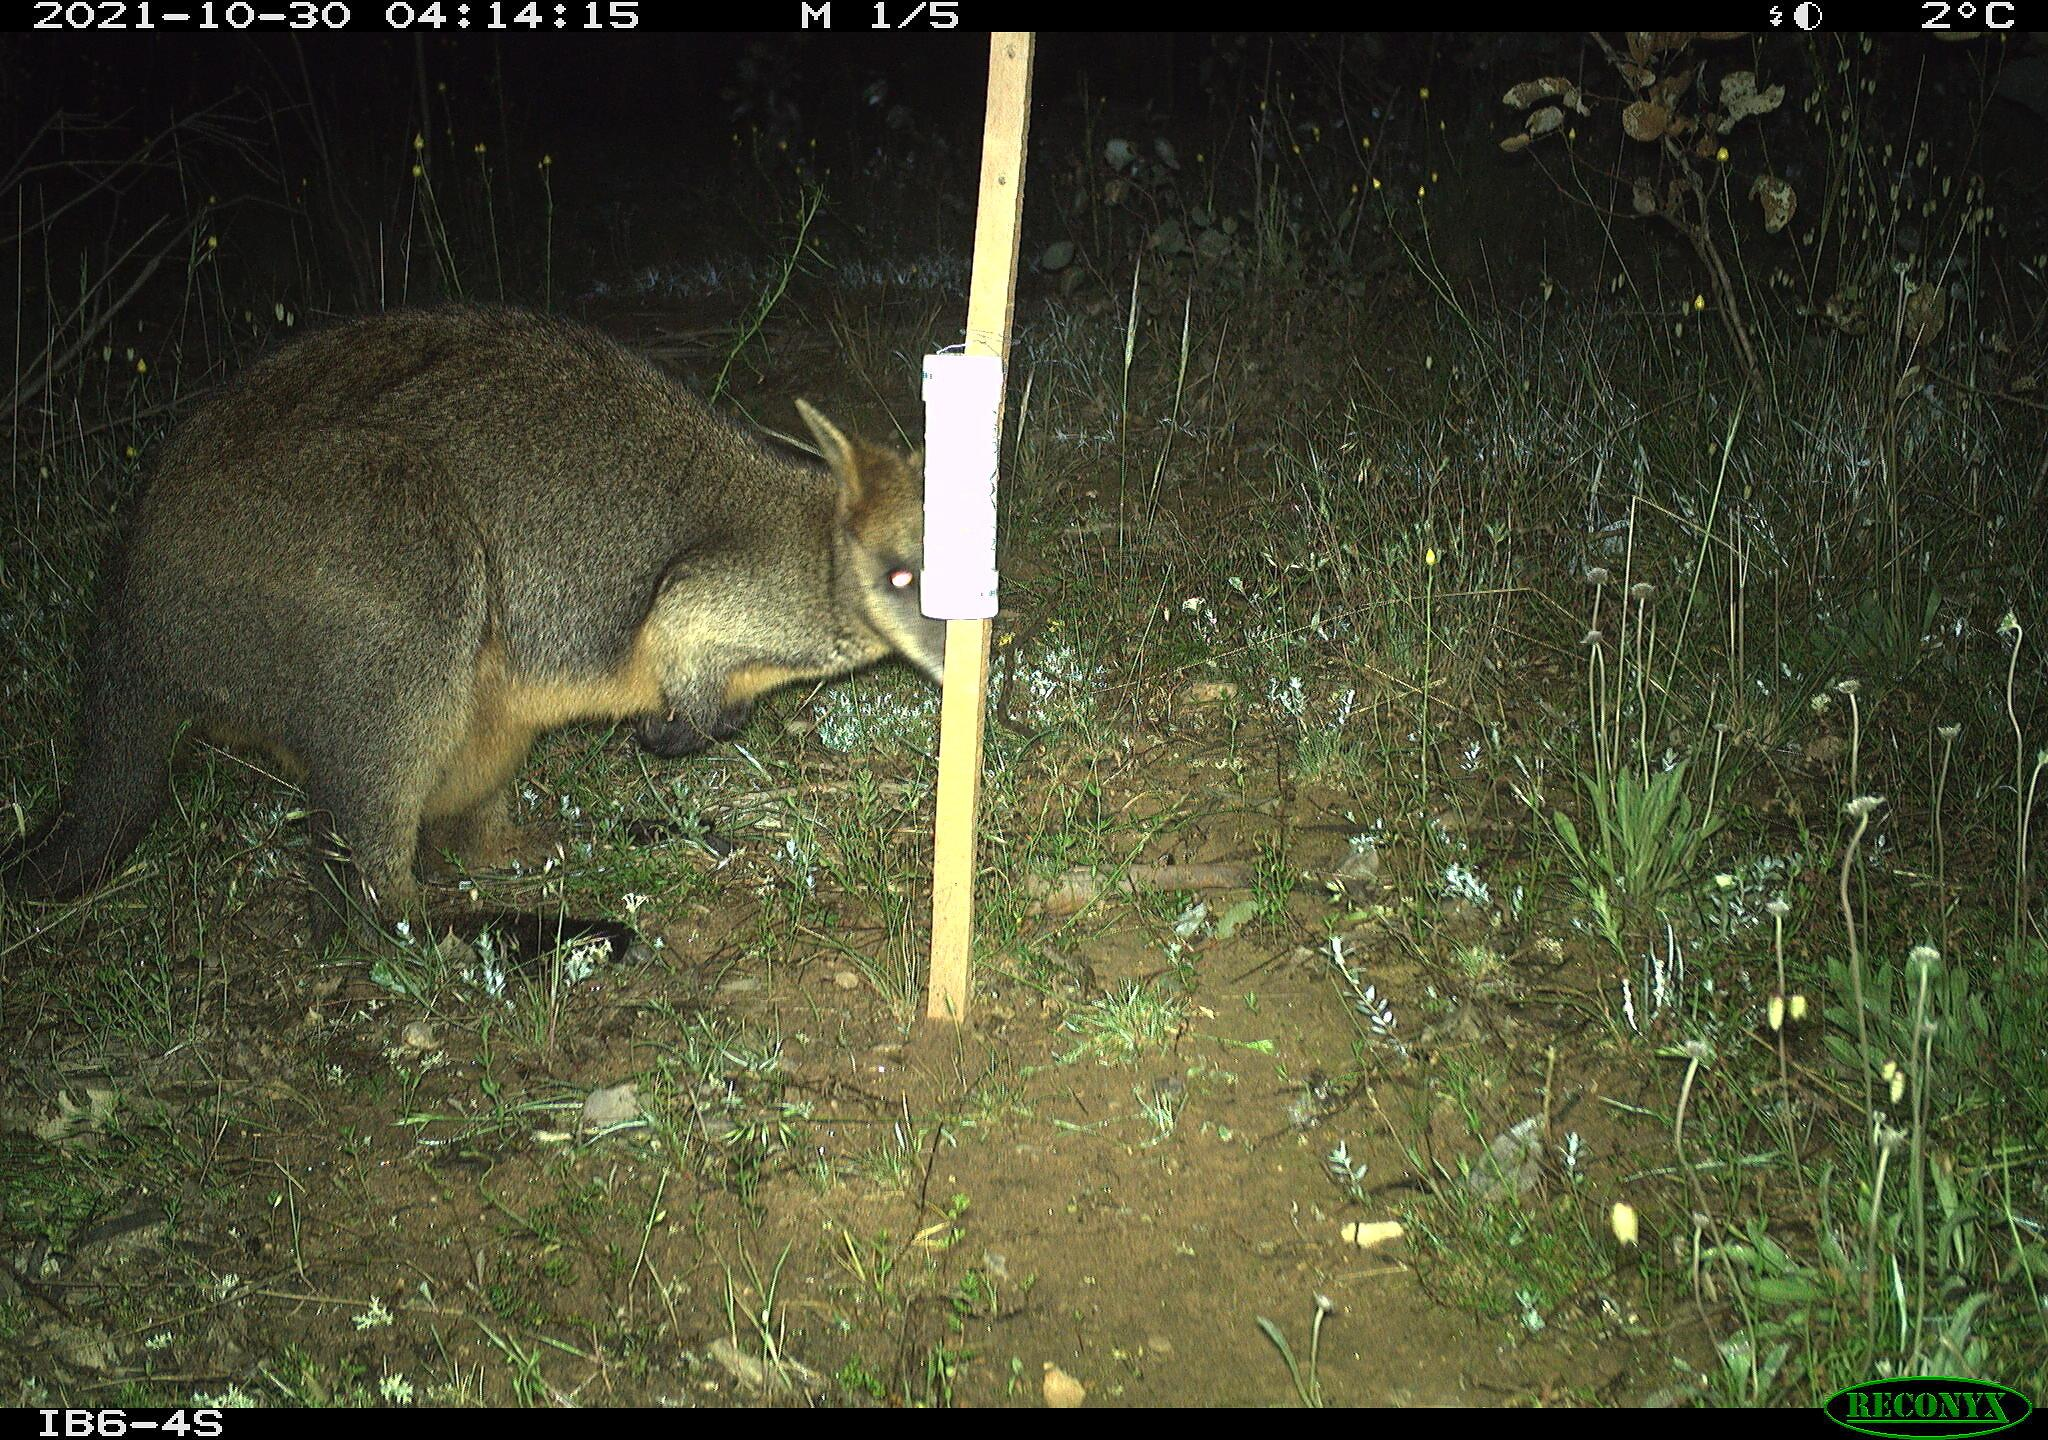Swamp wallaby: (0, 310, 943, 969)
